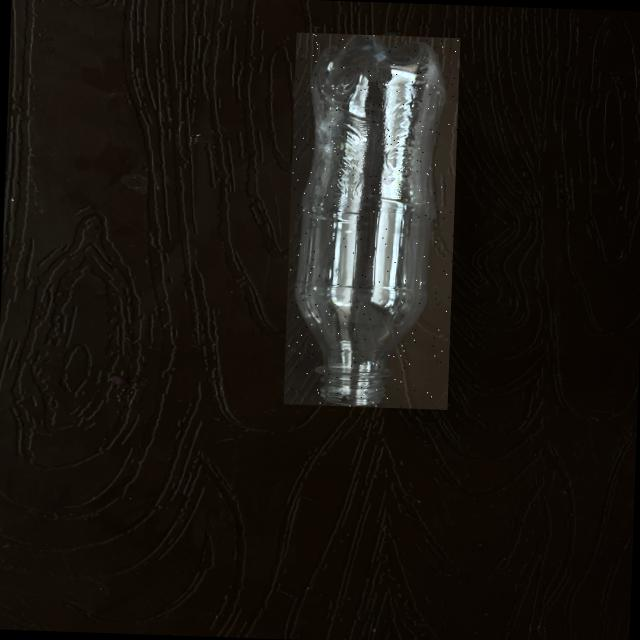PET_ClearBottle: (283, 32, 460, 409)
